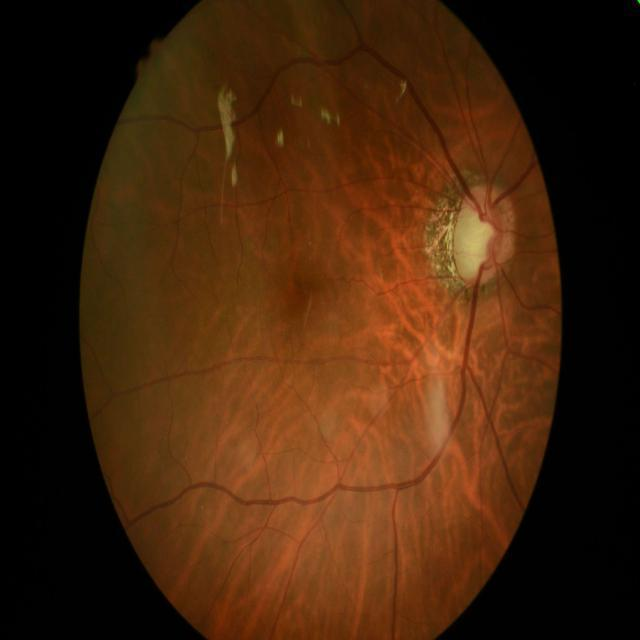cup: (456, 198, 500, 280)
disk: (452, 182, 518, 288)
